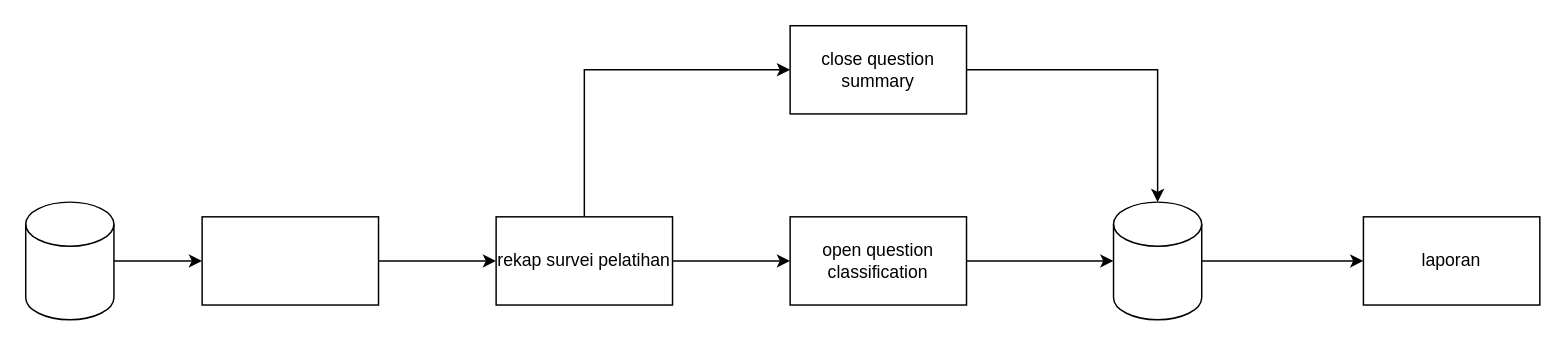
Image size: 1566x345. Some labels were removed from this diagram. Here are the shapes that lost their labels. From the top down, the centre of each, then its label:
point (290, 260): klc-api
point (1157, 260): ev
